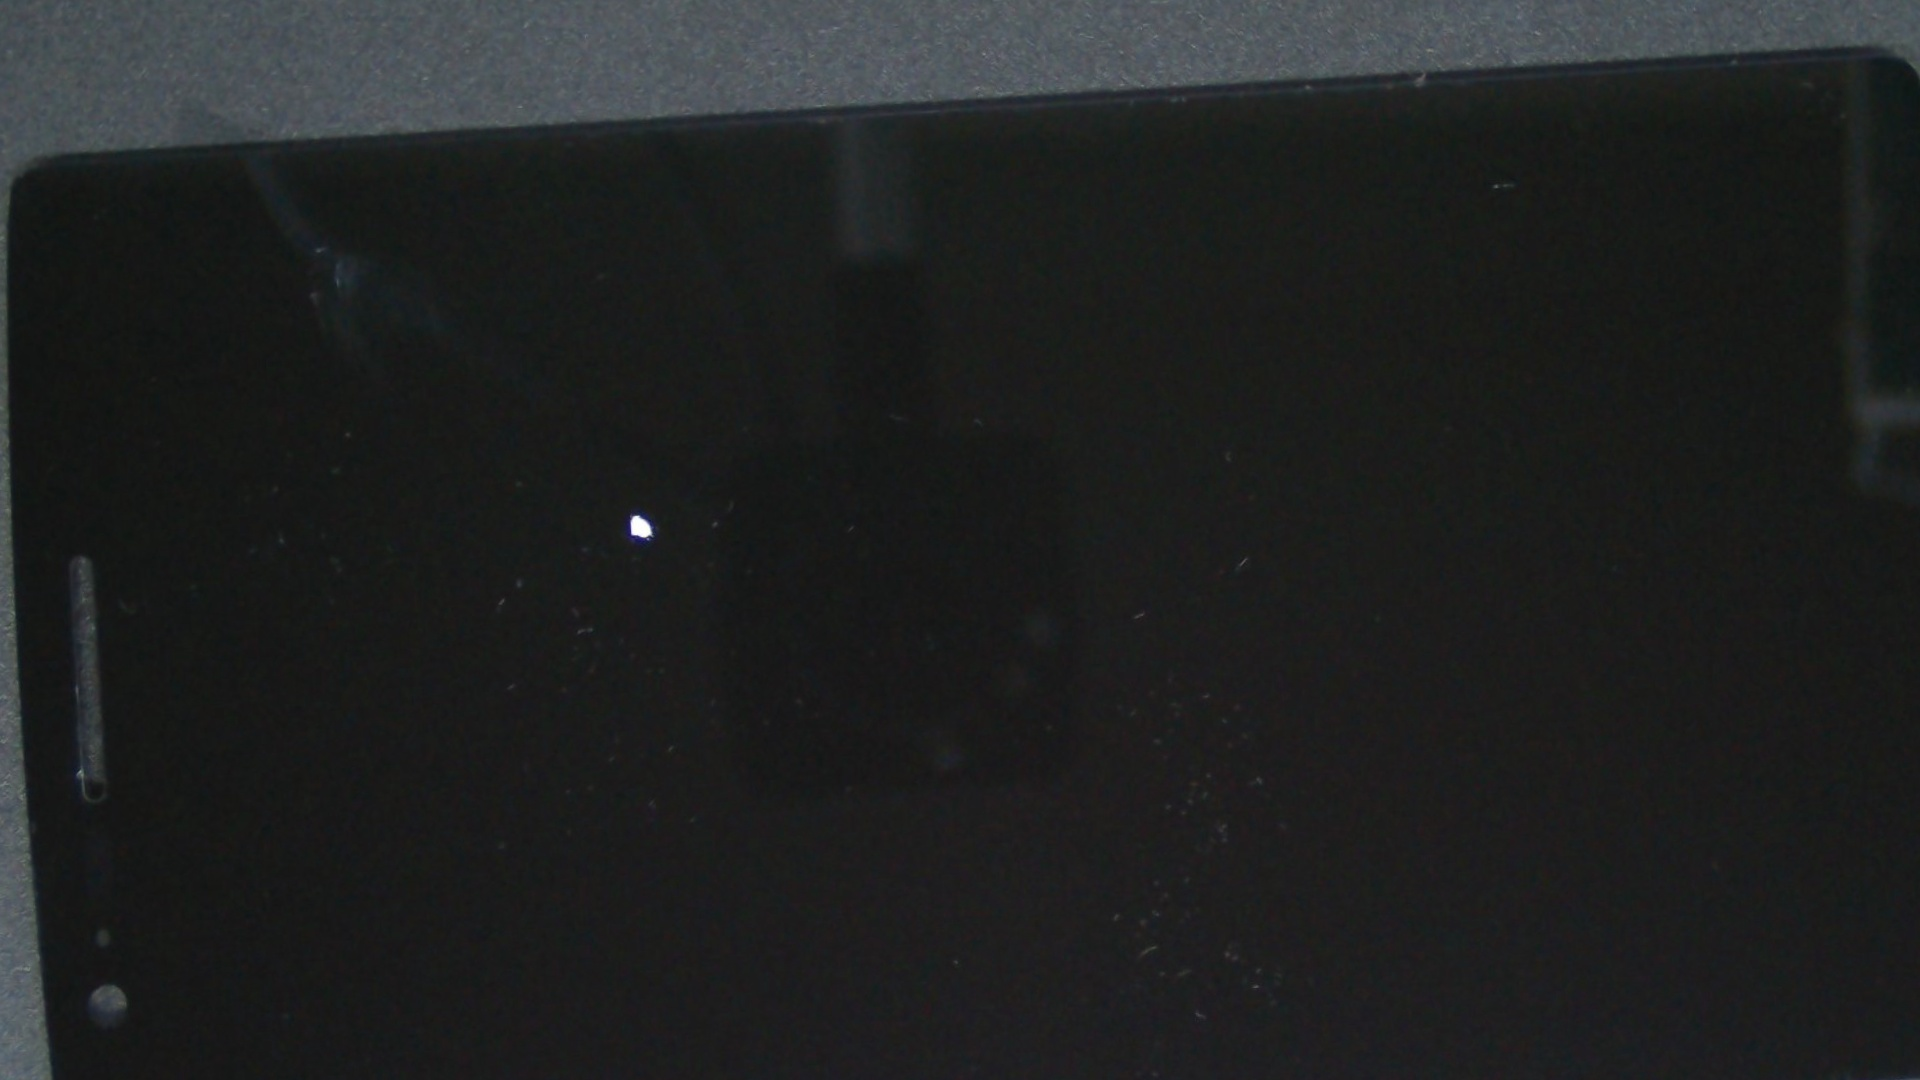oil: (251, 206, 1027, 819)
